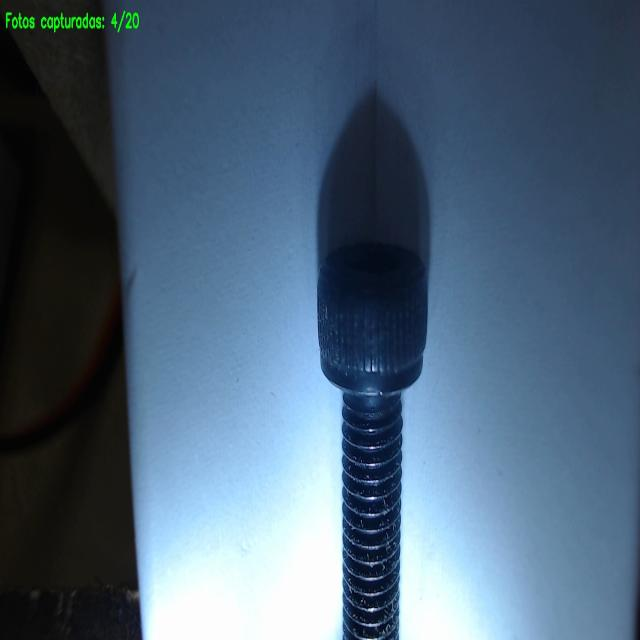vastago: (342, 393, 402, 639)
